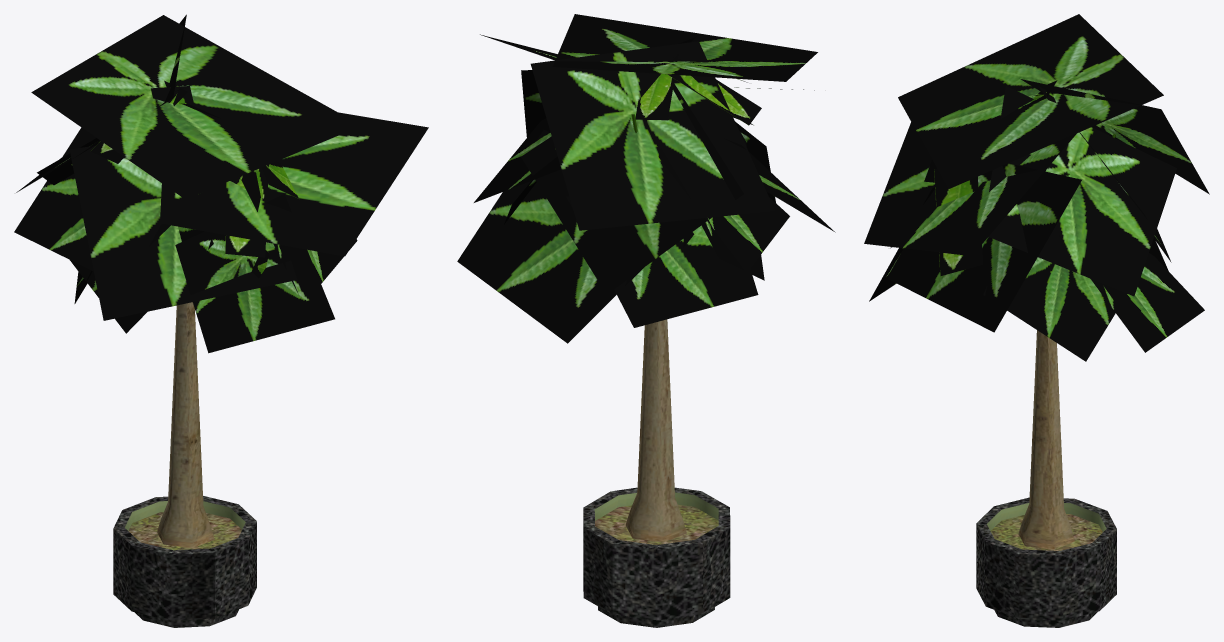
Rendered from furni_0200434.FBX.
The picture shows the model from 3 angles, left to right: view 1: azimuth 30°, elevation 25°; view 2: azimuth 150°, elevation 25°; view 3: azimuth 270°, elevation 25°; orthographic projection. The views are drawn at different scales.
Parts seen in each view (by area): view 1: furni_0200434; view 2: furni_0200434; view 3: furni_0200434.
Part boxes in pixels (<box>): furni_0200434: <box>14,14,428,627</box>; furni_0200434: <box>457,14,835,627</box>; furni_0200434: <box>864,14,1209,627</box>.
Size of the model in its own units: 103 by 152 by 90.67.
